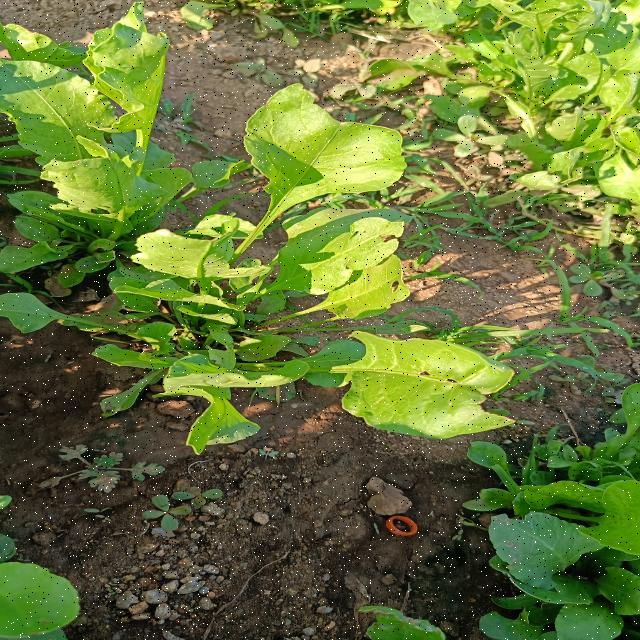leaves: (215, 83, 445, 269), (305, 338, 559, 447), (214, 197, 438, 305), (84, 2, 189, 178), (230, 256, 439, 343), (1, 56, 119, 182), (1, 289, 170, 355), (146, 228, 270, 313), (133, 350, 323, 401), (221, 334, 385, 393), (164, 366, 256, 463), (65, 148, 157, 240), (90, 281, 258, 320), (161, 148, 246, 216), (78, 343, 209, 376), (114, 323, 187, 365)
